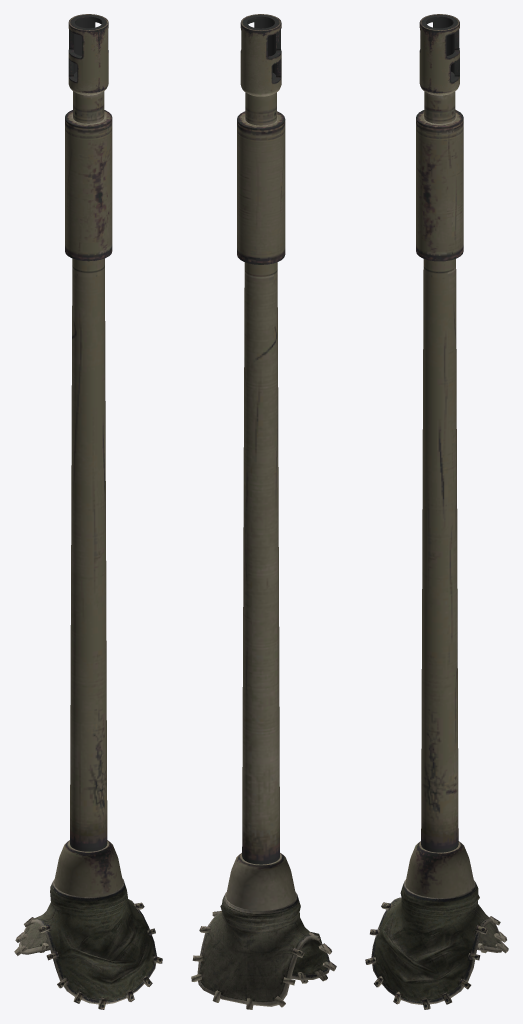
The model's file is Gun_01.glb.
The picture shows the model from 3 angles, left to right: view 1: azimuth 30°, elevation 25°; view 2: azimuth 150°, elevation 25°; view 3: azimuth 330°, elevation 25°; orthographic projection.
Visible parts, largest first — view 1: set_0_group_0; view 2: set_0_group_0; view 3: set_0_group_0.
Boxes of the visible parts, left/top/right/bottom form: set_0_group_0: left=14, top=14, right=162, bottom=1009; set_0_group_0: left=191, top=14, right=336, bottom=1009; set_0_group_0: left=365, top=14, right=508, bottom=1009.
Bounding box in the file's own units: 0.742 × 6.28 × 0.7145.
1 material, 1 textured.
